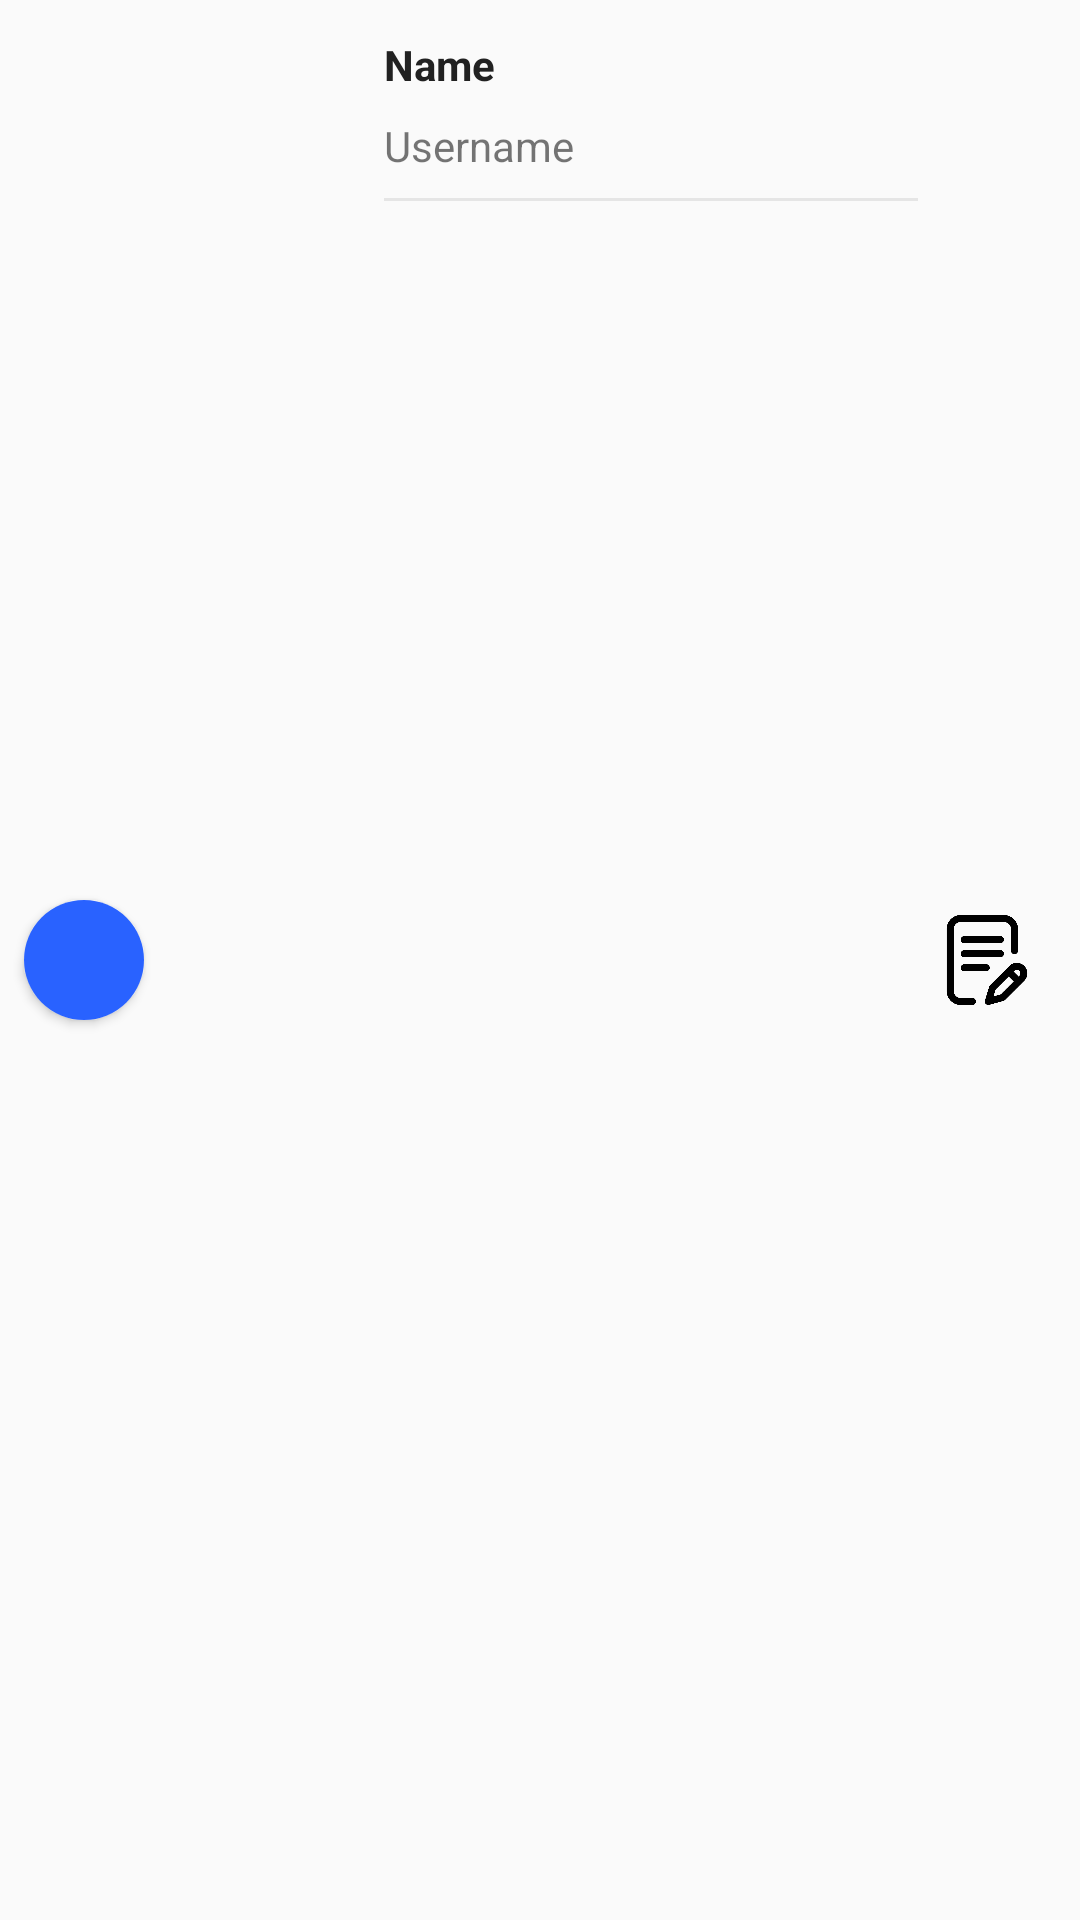

Where icons sit on this 1080x1920 app screen, as (x1, y1, x2, y2):
writing: (947, 915, 1027, 1005)
